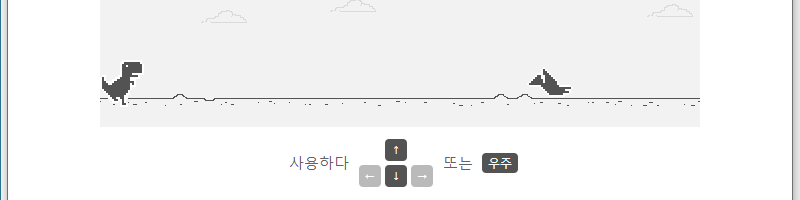dinosaur: (100, 61, 144, 106)
obstacle: (526, 67, 574, 100)
